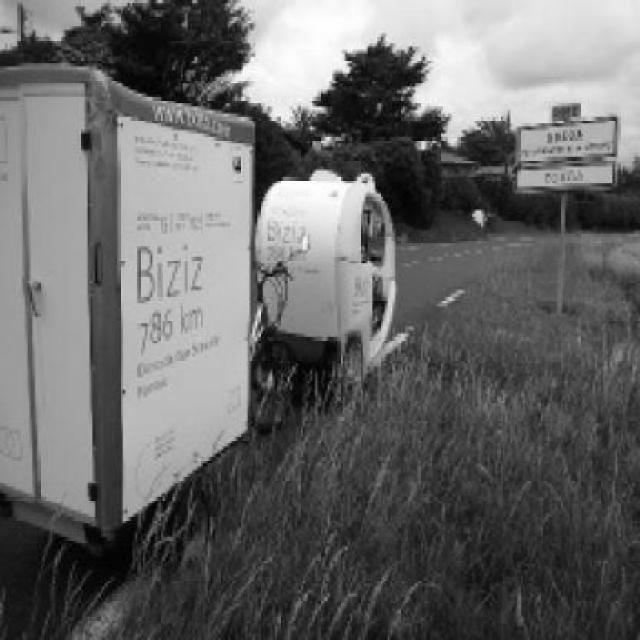Trailer: (0, 65, 256, 560)
